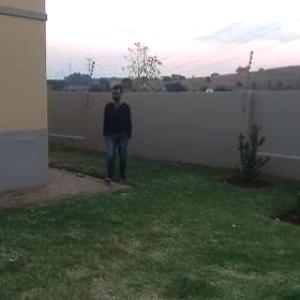follow: (101, 81, 137, 192)
